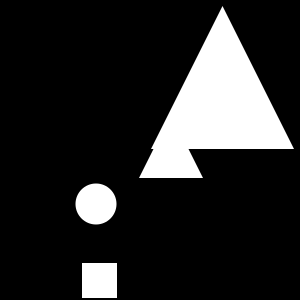circle: (82, 263, 117, 298)
rectangle: (76, 184, 116, 225)
triangle: (151, 6, 294, 149), (139, 114, 203, 178)
